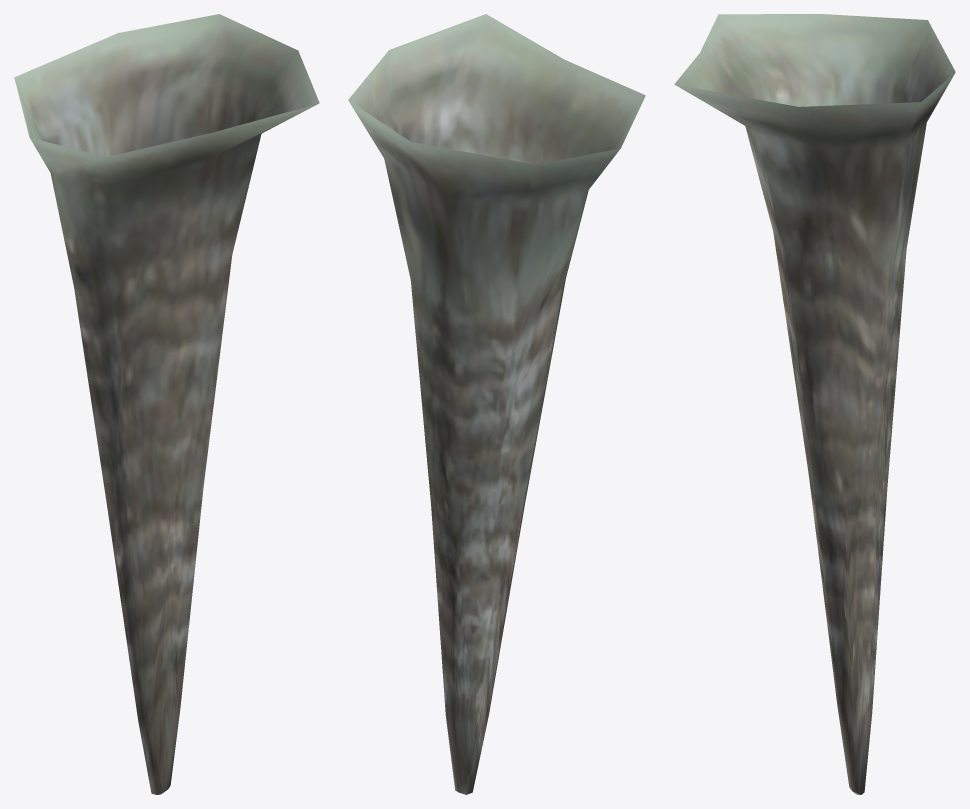
The model's file is TROLLHOLE02_PS-UPPERSTALAG21.fbx.
3 views of the same model, side by side, from view 1: azimuth 30°, elevation 25°; view 2: azimuth 150°, elevation 25°; view 3: azimuth 270°, elevation 25° (orthographic). The views are drawn at different scales.
Parts seen in each view (by area): view 1: TROLLHOLE02_PS-UPPERSTALAG21; view 2: TROLLHOLE02_PS-UPPERSTALAG21; view 3: TROLLHOLE02_PS-UPPERSTALAG21.
Part boxes in pixels (x1,y1,x2,y2): TROLLHOLE02_PS-UPPERSTALAG21: [14, 14, 319, 794]; TROLLHOLE02_PS-UPPERSTALAG21: [348, 14, 645, 794]; TROLLHOLE02_PS-UPPERSTALAG21: [674, 14, 955, 794].
Size of the model in its own units: 12674 by 34934 by 11993.
Materials: 1 (1 with a texture image).
